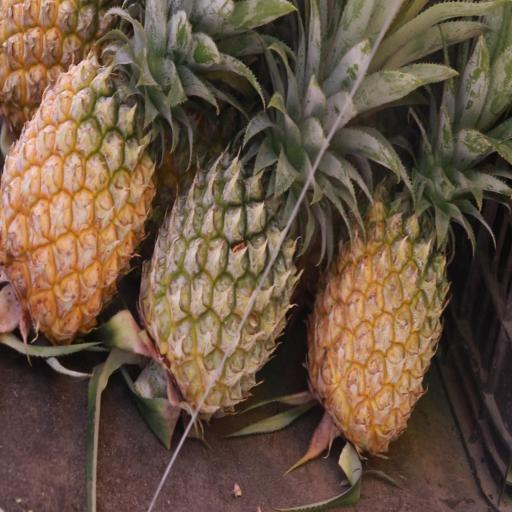Pineapple - v8 v1: (0, 14, 160, 368), (304, 82, 450, 456)
